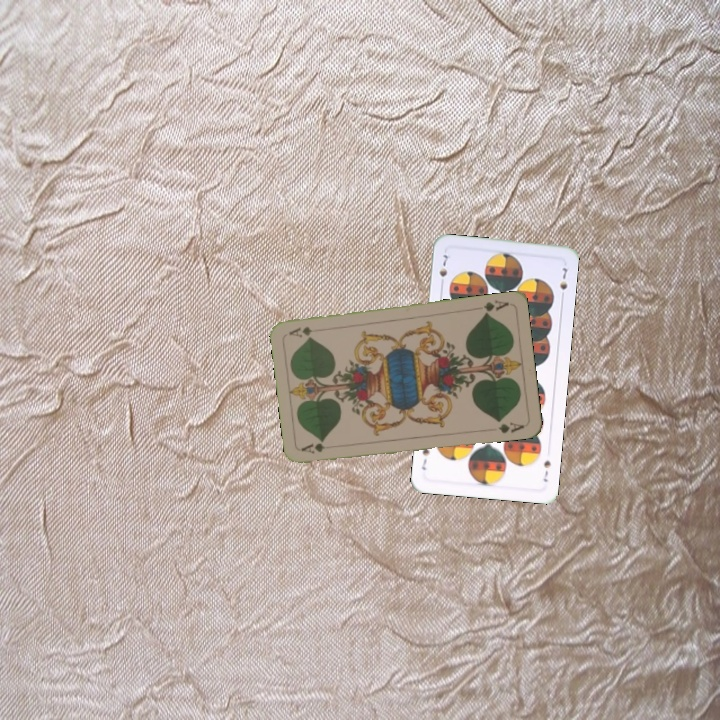GA: (479, 296, 511, 318), (298, 439, 327, 456)
S7: (435, 250, 450, 289), (539, 456, 554, 484)
